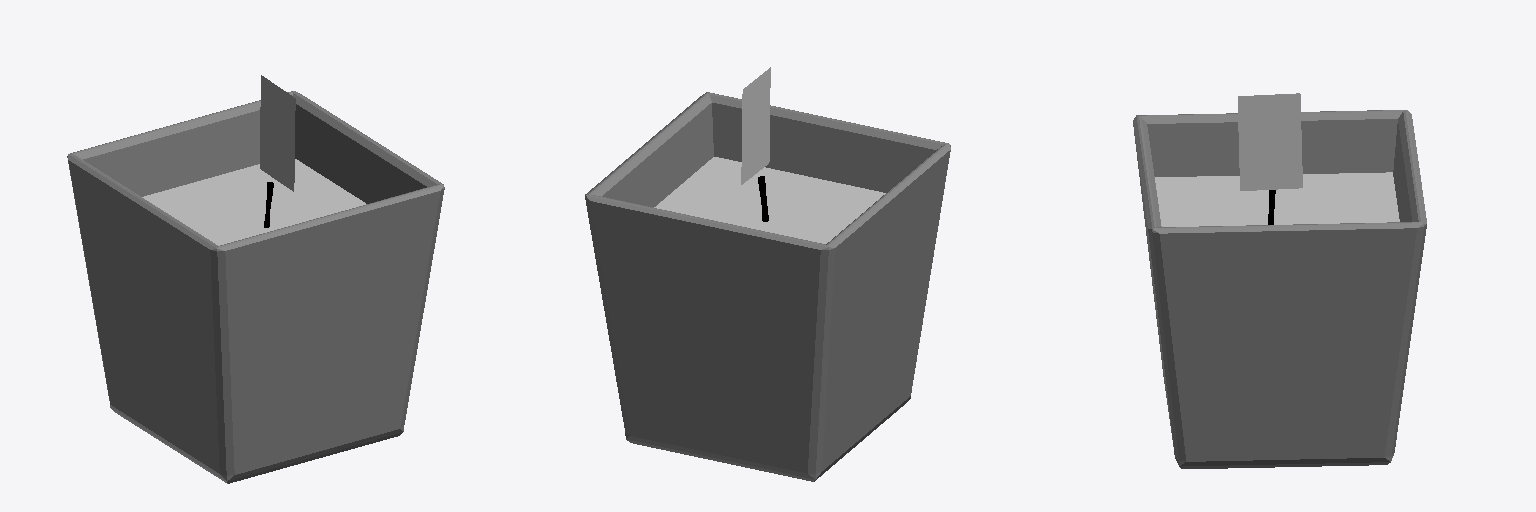
The model's file is glass4.obj.
3 views of the same model, side by side, from view 1: azimuth 30°, elevation 25°; view 2: azimuth 150°, elevation 25°; view 3: azimuth 270°, elevation 25° (orthographic).
Visible parts, largest first — view 1: 立方体, 立方体.002, 立方体.001; view 2: 立方体, 立方体.002, 立方体.001; view 3: 立方体, 立方体.002, 立方体.001.
Boxes of the visible parts, x1,y1,x2,y2 form: 立方体: [67, 91, 444, 483]; 立方体.002: [142, 159, 365, 245]; 立方体.001: [260, 75, 295, 191]; 立方体: [585, 92, 950, 481]; 立方体.002: [654, 157, 885, 243]; 立方体.001: [741, 67, 770, 184]; 立方体: [1133, 110, 1426, 468]; 立方体.002: [1155, 172, 1399, 226]; 立方体.001: [1238, 93, 1302, 190].
Bounding box in the file's own units: 1.22 × 1.56 × 1.22.